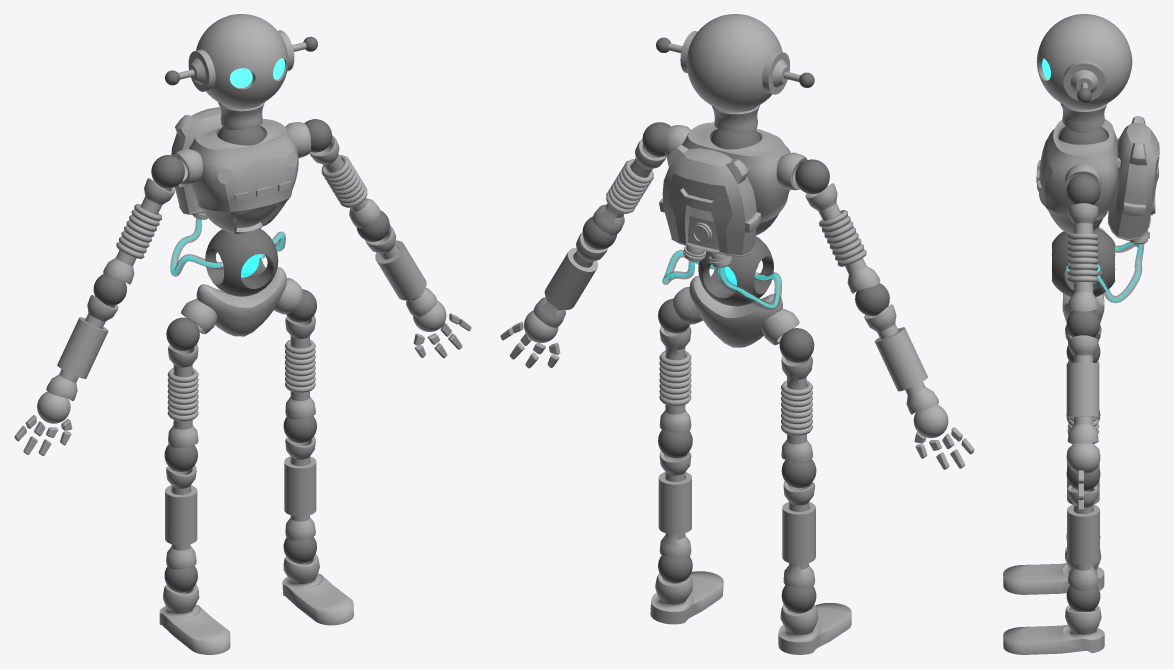
The model's file is Robot 2.0 (no modifiers) light.fbx.
The picture shows the model from 3 angles, left to right: view 1: azimuth 30°, elevation 25°; view 2: azimuth 150°, elevation 25°; view 3: azimuth 270°, elevation 25°; orthographic projection. The views are drawn at different scales.
Visible parts, largest first — view 1: Chest.003, Head, Tors, Forearm R, Upper arm R, Foot L, Foot L.002, Knee leg R, Knee leg L, Thigh leg R, Thigh leg L, Forearm L (+6 smaller); view 2: bag, Head, Tors, Chest.003, Forearm R, Upper arm R, Knee leg L, Knee leg R, Thigh leg R, Thigh leg L, Foot L.002, Forearm L (+7 smaller); view 3: Head, Chest.003, bag, Forearm L, Foot L, Upper arm L, Knee leg L, Tors, Foot L.002, Neck, Wrist sphere L, bag.001 (+2 smaller).
Part boxes in pixels (x1,y1,x2,y2): Chest.003: [173, 119, 311, 233]; Head: [165, 14, 317, 108]; Tors: [181, 229, 302, 336]; Forearm R: [46, 274, 126, 401]; Upper arm R: [103, 155, 184, 284]; Foot L: [282, 537, 353, 625]; Foot L.002: [159, 565, 230, 654]; Knee leg R: [164, 444, 197, 569]; Knee leg L: [283, 416, 316, 540]; Thigh leg R: [166, 317, 199, 447]; Thigh leg L: [285, 289, 316, 419]; Forearm L: [356, 210, 437, 317]; bag: [659, 145, 760, 267]; Head: [656, 14, 814, 111]; Tors: [673, 236, 799, 347]; Chest.003: [664, 122, 807, 235]; Forearm R: [855, 283, 938, 414]; Upper arm R: [795, 159, 880, 293]; Knee leg L: [658, 429, 692, 558]; Knee leg R: [781, 460, 816, 588]; Thigh leg R: [779, 328, 814, 462]; Thigh leg L: [658, 298, 691, 433]; Foot L.002: [778, 585, 851, 654]; Forearm L: [533, 216, 616, 327]; Head: [1036, 14, 1132, 109]; Chest.003: [1036, 119, 1117, 233]; bag: [1108, 116, 1159, 244]; Forearm L: [1066, 310, 1100, 444]; Foot L: [1003, 585, 1104, 654]; Upper arm L: [1066, 174, 1100, 311]; Knee leg L: [1066, 466, 1100, 590]; Tors: [1051, 228, 1115, 339]; Foot L.002: [1003, 534, 1104, 594]; Neck: [1060, 103, 1107, 132]; Wrist sphere L: [1066, 443, 1100, 474]; bag.001: [1097, 243, 1144, 303].
Size of the model in its own units: 3.11 by 3.86 by 0.9158.
